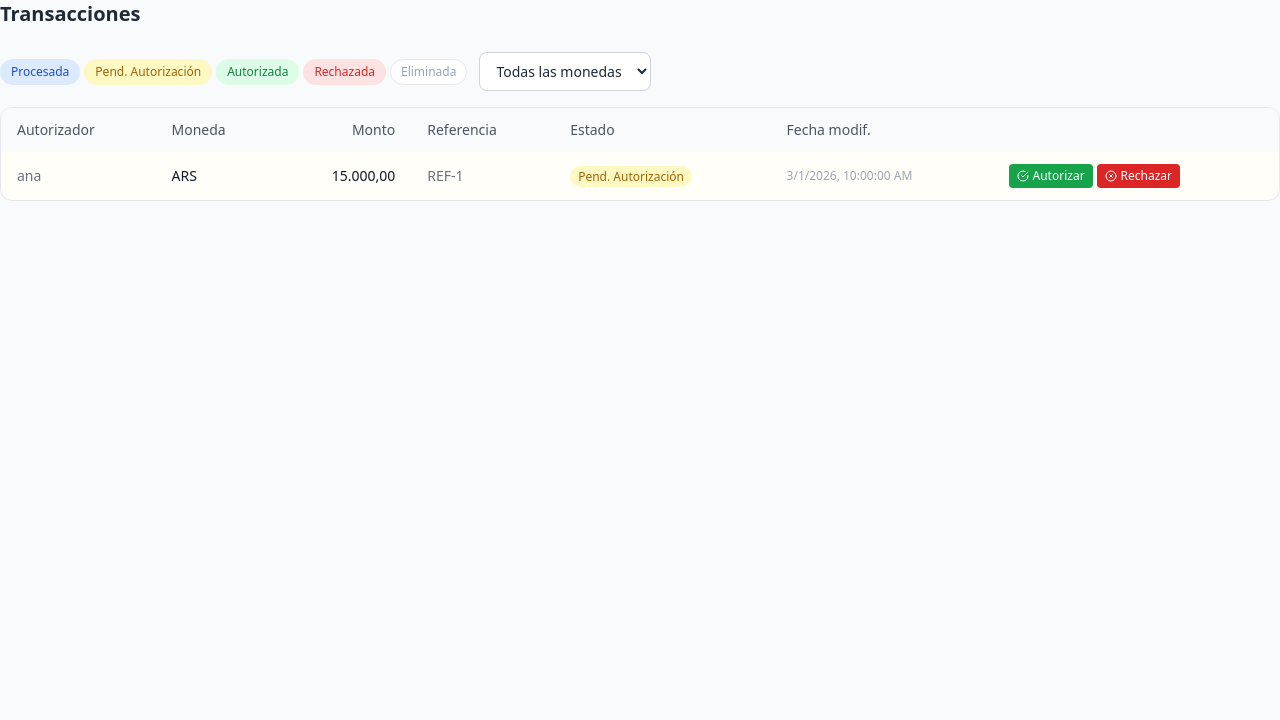
Test: TransactionsPage — autorizar y rechazar › si falla el rechazo muestra el error y cierra el modal igual
This screenshot has width=1280, height=720.
Click the button "Rechazar": (1138, 176) top-left (1097, 164), bottom-right (1180, 188)
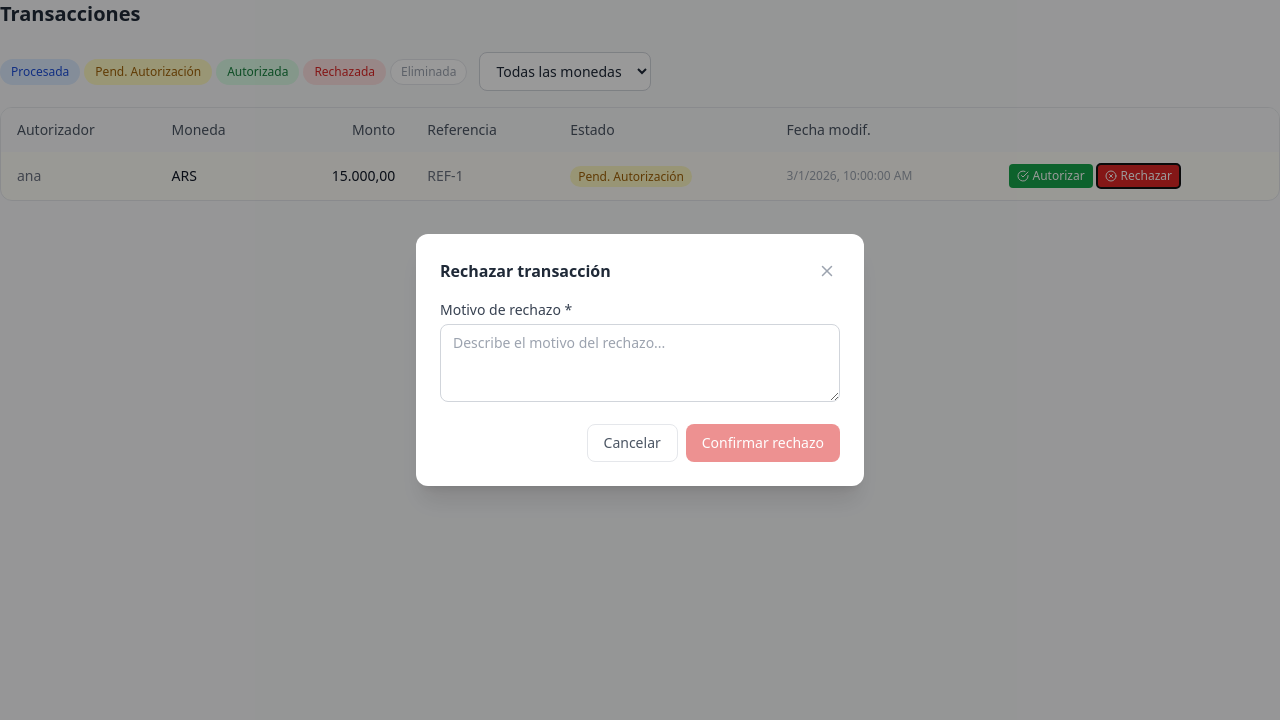
In the text box with placeholder "Describe el motivo del rechazo...": (640, 363) top-left (440, 324), bottom-right (840, 402), type "duplicada"
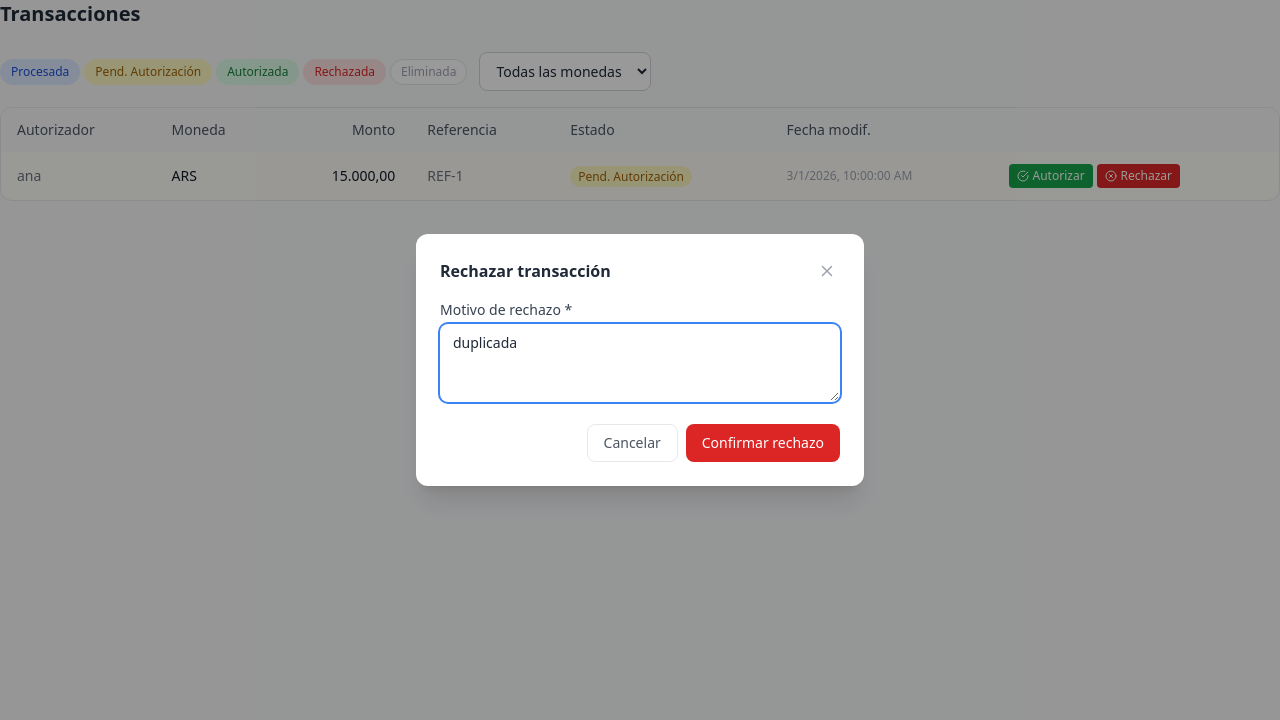
Click the button "Confirmar rechazo": (763, 443) top-left (686, 424), bottom-right (840, 462)
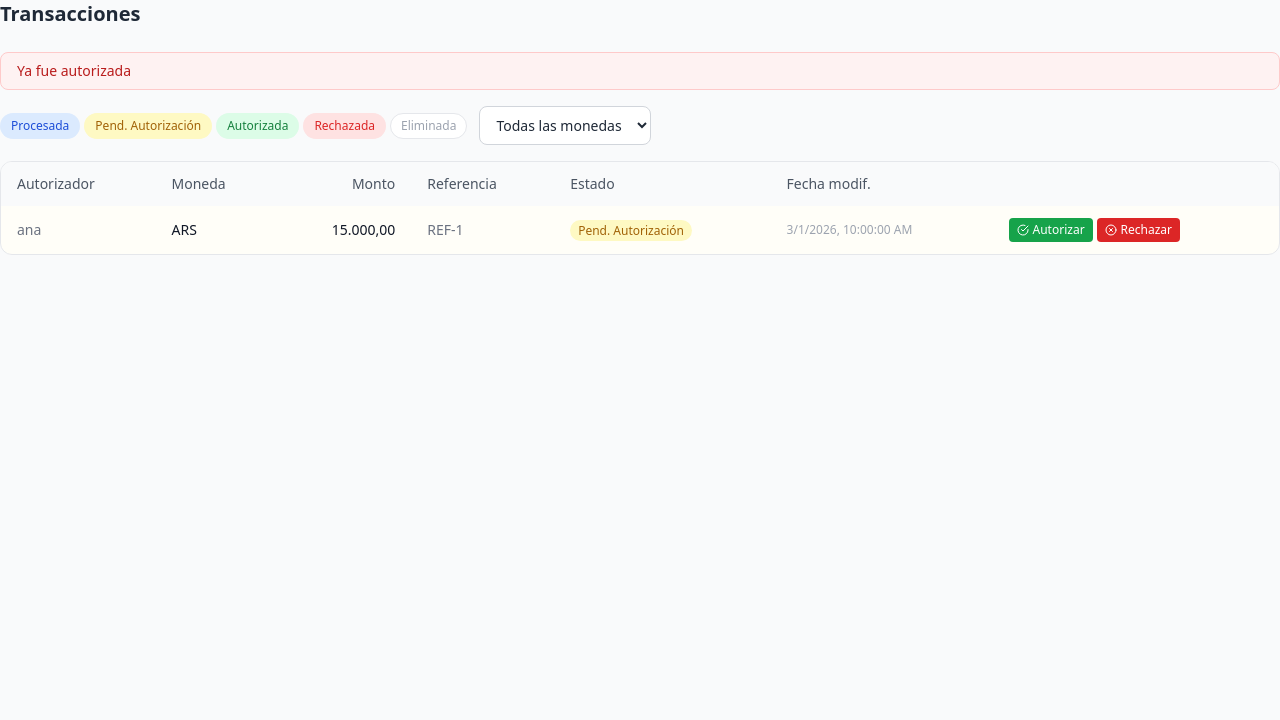
Expected: the text "Ya fue autorizada" is shown, top-left (0, 52), bottom-right (1279, 90)
Expected: the heading "Rechazar transacción" is gone
